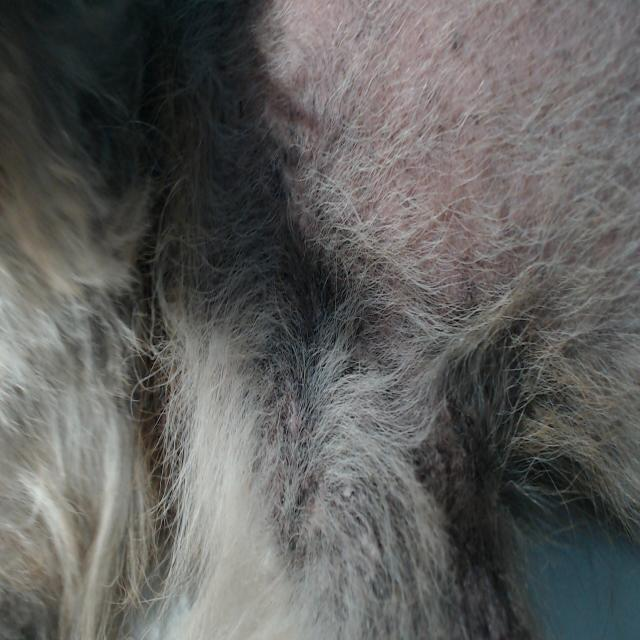demodicosis: (422, 407, 489, 568), (267, 376, 317, 474)
